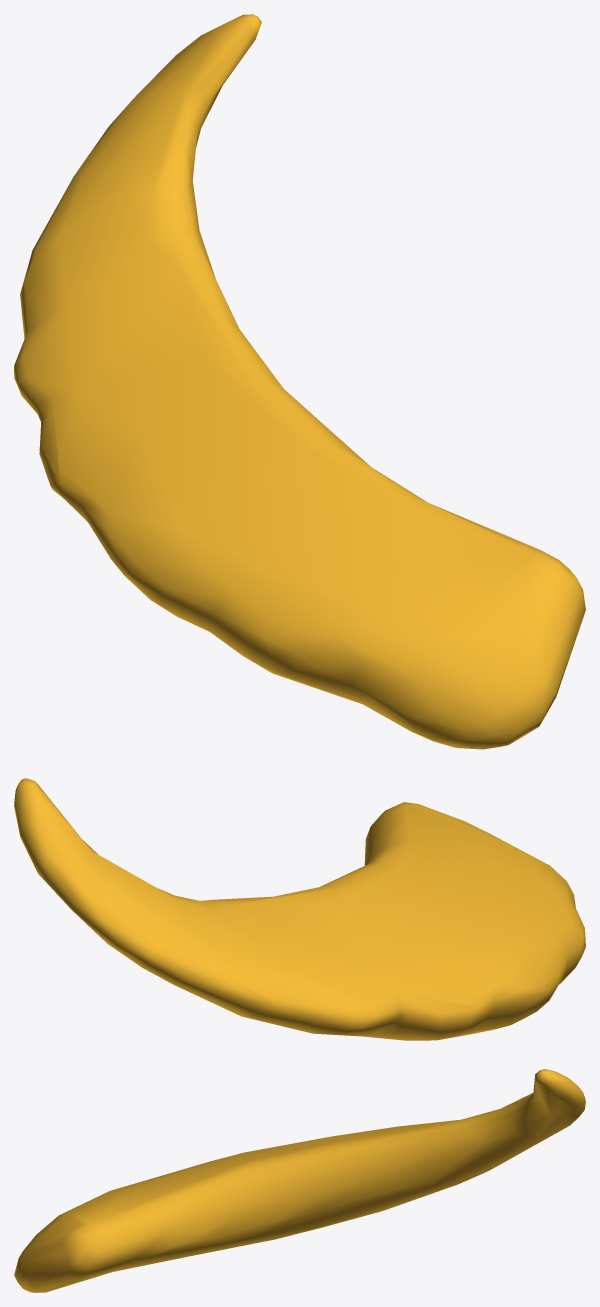
Rendered from nervoso-hippocampus-r.glb.
The picture shows the model from 3 angles, top to bottom: view 1: azimuth 30°, elevation 25°; view 2: azimuth 150°, elevation 25°; view 3: azimuth 270°, elevation 25°; orthographic projection. The views are drawn at different scales.
Parts seen in each view (by area): view 1: Hippocampus.r; view 2: Hippocampus.r; view 3: Hippocampus.r.
Part boxes in pixels (left/top/right/bottom): Hippocampus.r: left=14, top=14, right=585, bottom=749; Hippocampus.r: left=14, top=778, right=585, bottom=1040; Hippocampus.r: left=14, top=1069, right=585, bottom=1292.
Size of the model in its own units: 0.0194 by 0.0213 by 0.0416.
